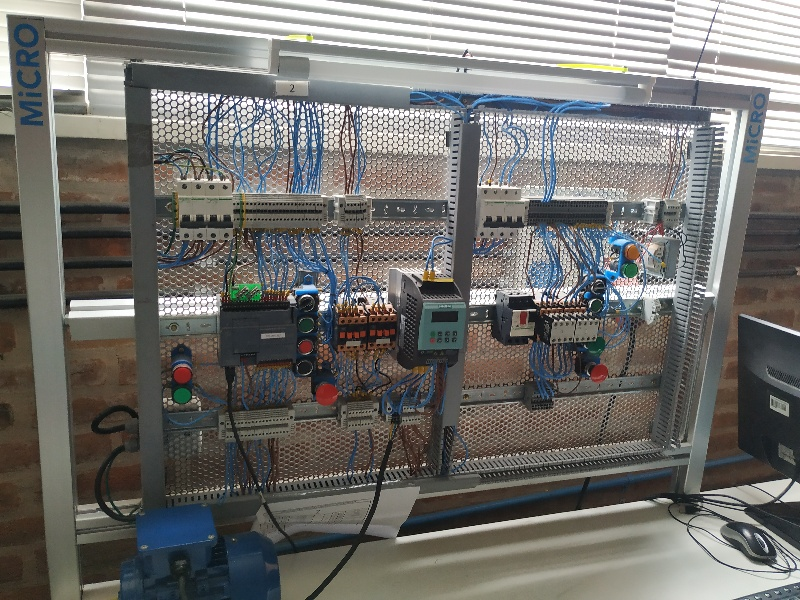Tablero 2: (140, 76, 707, 491)
